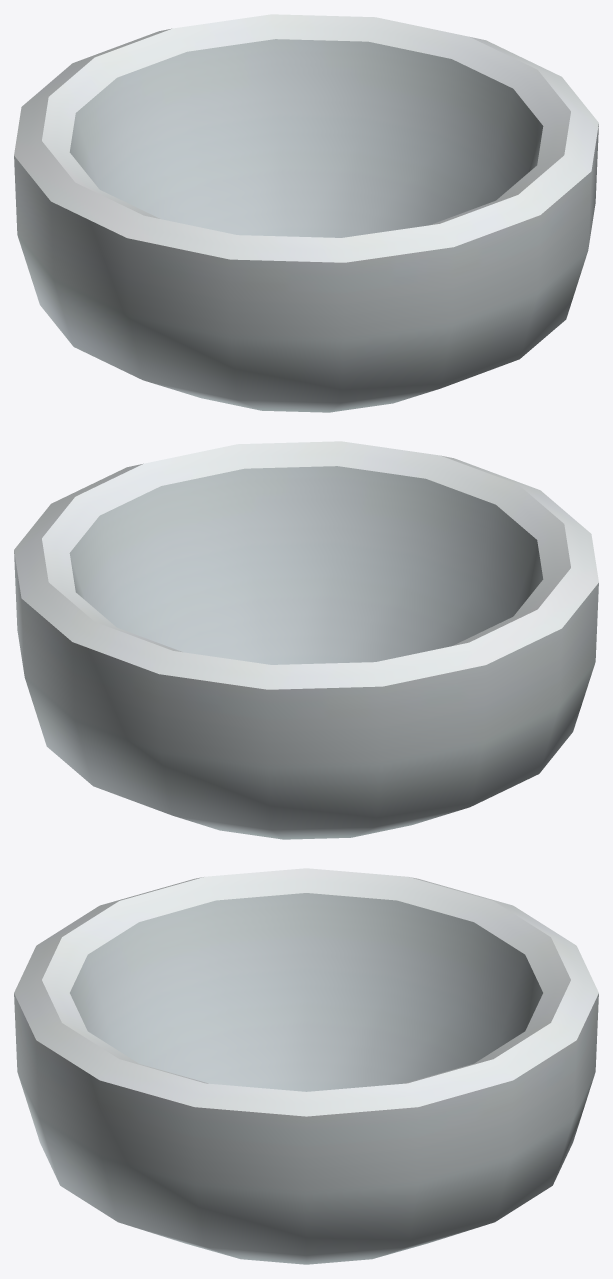
Rendered from bowl-small.glb.
3 renders of one model, top to bottom at view 1: azimuth 30°, elevation 25°; view 2: azimuth 150°, elevation 25°; view 3: azimuth 270°, elevation 25°, orthographic.
Visible parts, largest first — view 1: bowl_small; view 2: bowl_small; view 3: bowl_small.
Boxes of the visible parts, x1,y1,x2,y2 form: bowl_small: (14, 14, 598, 412); bowl_small: (14, 441, 598, 839); bowl_small: (14, 868, 598, 1264).
Size of the model in its own units: 0.75 by 0.3 by 0.75.
1 material, 1 textured.
